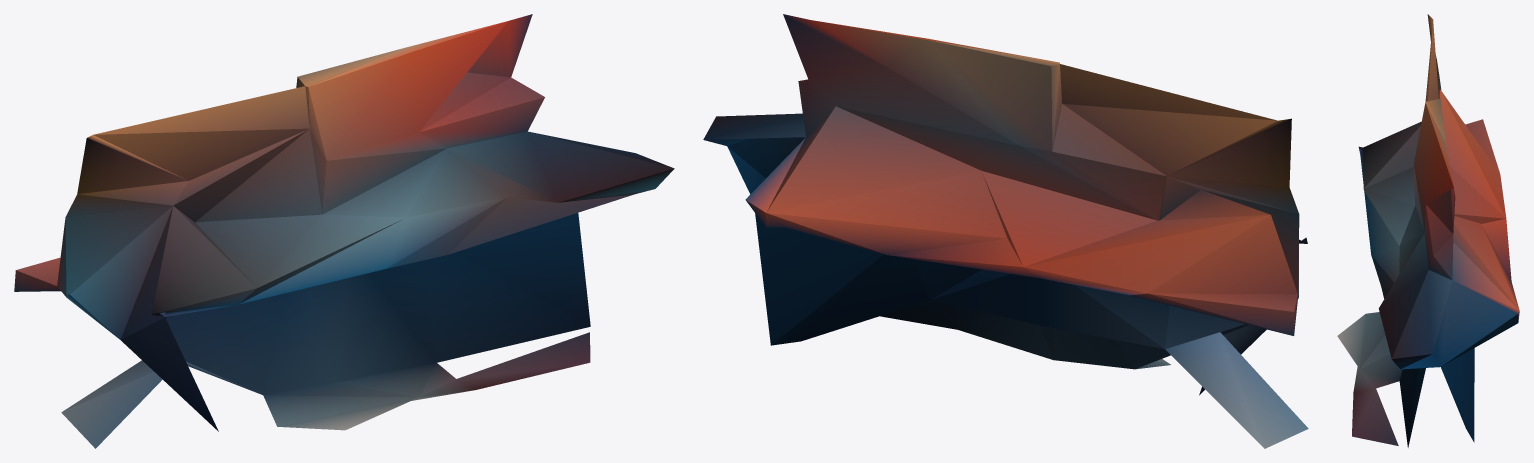
3 renders of one model, left to right at view 1: azimuth 30°, elevation 25°; view 2: azimuth 150°, elevation 25°; view 3: azimuth 270°, elevation 25°, orthographic. The views are drawn at different scales.
Size of the model in its own units: 1.84 by 0.9 by 0.6.
